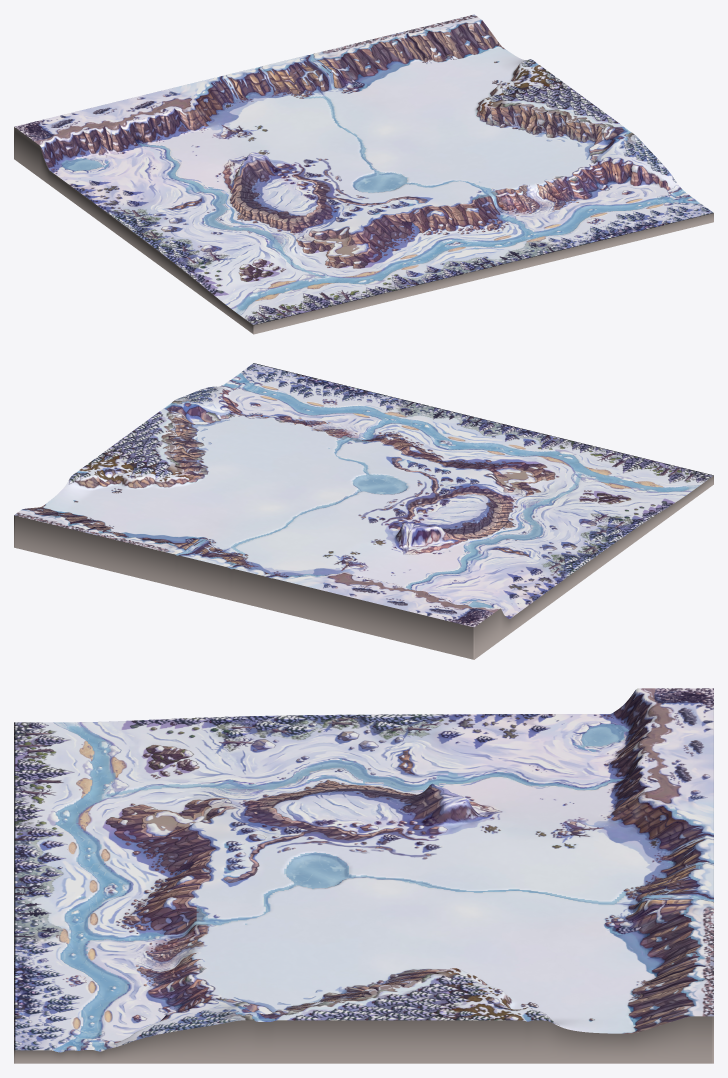
The model's file is dorfmap_c20_z25.glb.
The picture shows the model from 3 angles, top to bottom: view 1: azimuth 30°, elevation 25°; view 2: azimuth 150°, elevation 25°; view 3: azimuth 270°, elevation 25°; orthographic projection. The views are drawn at different scales.
Parts seen in each view (by area): view 1: SCHNEE, KLIPPE_WAND, WALD, SOCKEL, WASSER_EIS, WASSER_OBERFLAECHE, KLIPPE_KANTE, FELS, SCHATTEN, BODEN, SAND; view 2: SCHNEE, SOCKEL, KLIPPE_WAND, WALD, WASSER_OBERFLAECHE, WASSER_EIS, FELS, SCHATTEN, KLIPPE_KANTE, BODEN, SAND; view 3: SCHNEE, KLIPPE_WAND, WALD, SOCKEL, WASSER_OBERFLAECHE, WASSER_EIS, SCHATTEN, FELS, KLIPPE_KANTE, BODEN, SAND.
Part boxes in pixels (x1,y1,x2,y2): SCHNEE: (39, 16, 699, 317); KLIPPE_WAND: (35, 14, 669, 281); WALD: (53, 59, 713, 325); SOCKEL: (14, 127, 713, 334); WASSER_EIS: (61, 27, 699, 310); WASSER_OBERFLAECHE: (61, 27, 699, 310); KLIPPE_KANTE: (41, 21, 665, 279); FELS: (14, 53, 690, 299); SCHATTEN: (49, 19, 662, 296); BODEN: (35, 63, 609, 255); SAND: (255, 198, 662, 300); SCHNEE: (17, 367, 702, 620); SOCKEL: (14, 475, 713, 659); KLIPPE_WAND: (14, 389, 631, 622); WALD: (68, 363, 713, 615); WASSER_OBERFLAECHE: (50, 373, 688, 608); WASSER_EIS: (50, 373, 688, 607); FELS: (76, 380, 654, 627); SCHATTEN: (21, 381, 674, 618); KLIPPE_KANTE: (23, 390, 629, 620); BODEN: (124, 406, 498, 612); SAND: (260, 385, 662, 488); SCHNEE: (14, 688, 713, 1050); KLIPPE_WAND: (104, 694, 713, 1042); WALD: (14, 714, 709, 1050); SOCKEL: (14, 1016, 713, 1063); WASSER_OBERFLAECHE: (53, 724, 713, 1050); WASSER_EIS: (53, 724, 713, 1052); SCHATTEN: (44, 713, 713, 1021); FELS: (76, 688, 713, 1050); KLIPPE_KANTE: (131, 690, 711, 1035); BODEN: (16, 688, 676, 1012); SAND: (60, 741, 124, 1028).
Bounding box in the file's own units: 336 × 22.6 × 303.
11 materials, 9 textured.
